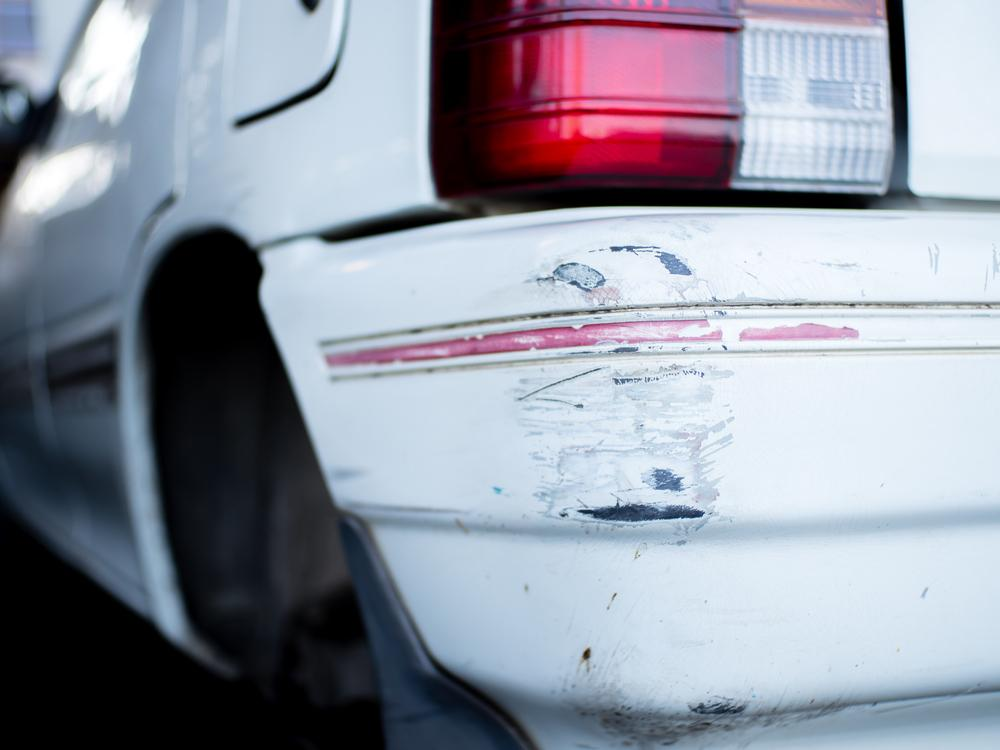scratch: (518, 237, 744, 540), (563, 650, 855, 750)
